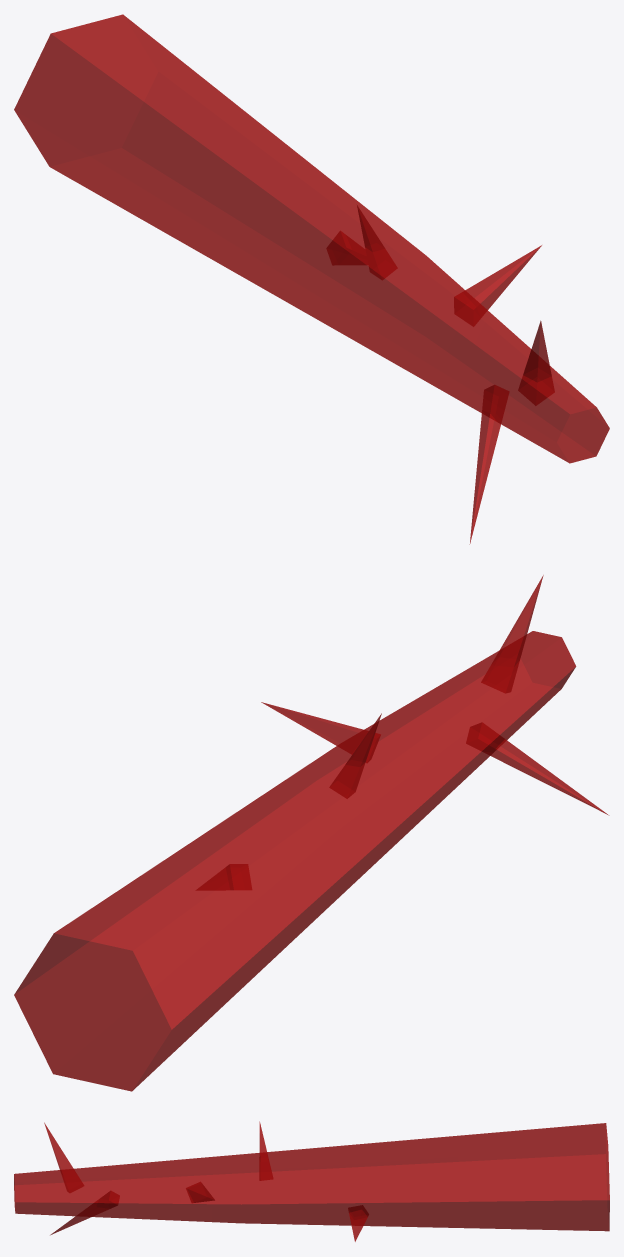
The model's file is SM_Prop_Swamp_Log_06_Collision.fbx.
3 renders of one model, top to bottom at view 1: azimuth 30°, elevation 25°; view 2: azimuth 150°, elevation 25°; view 3: azimuth 270°, elevation 25°, orthographic. The views are drawn at different scales.
Parts seen in each view (by area): view 1: SM_Prop_Swamp_Log_06_Collision; view 2: SM_Prop_Swamp_Log_06_Collision; view 3: SM_Prop_Swamp_Log_06_Collision.
Boxes of the visible parts, x1=… form: SM_Prop_Swamp_Log_06_Collision: x1=14, y1=14, x2=609, y2=544; SM_Prop_Swamp_Log_06_Collision: x1=14, y1=575, x2=609, y2=1091; SM_Prop_Swamp_Log_06_Collision: x1=14, y1=1121, x2=609, y2=1241.
Size of the model in its own units: 321 by 293 by 1173.
